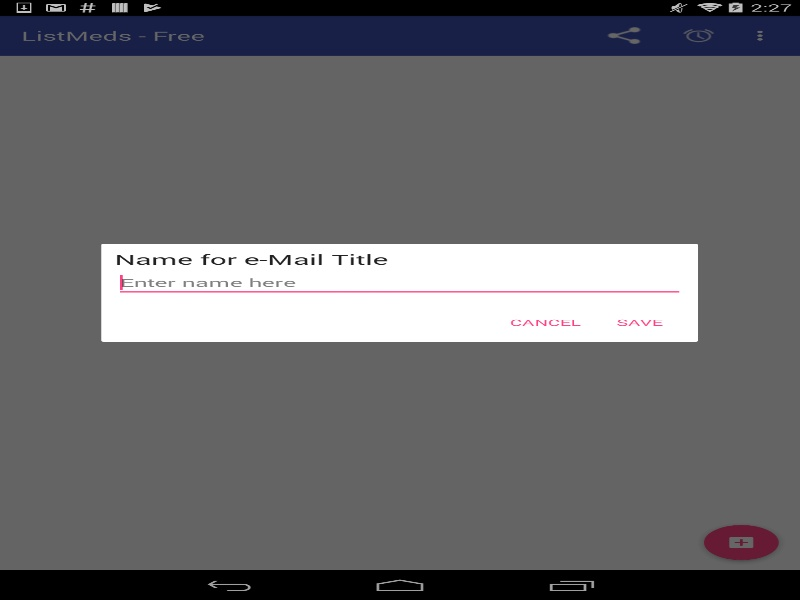Button: (494, 305, 596, 339), (596, 305, 682, 339)
Input: (114, 268, 684, 296)
